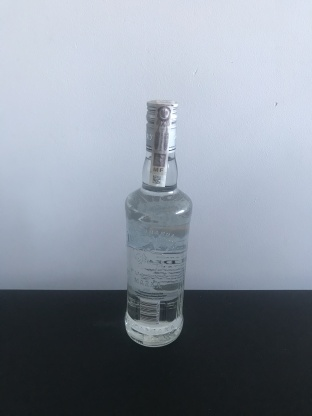nakretka: (143, 94, 180, 156)
